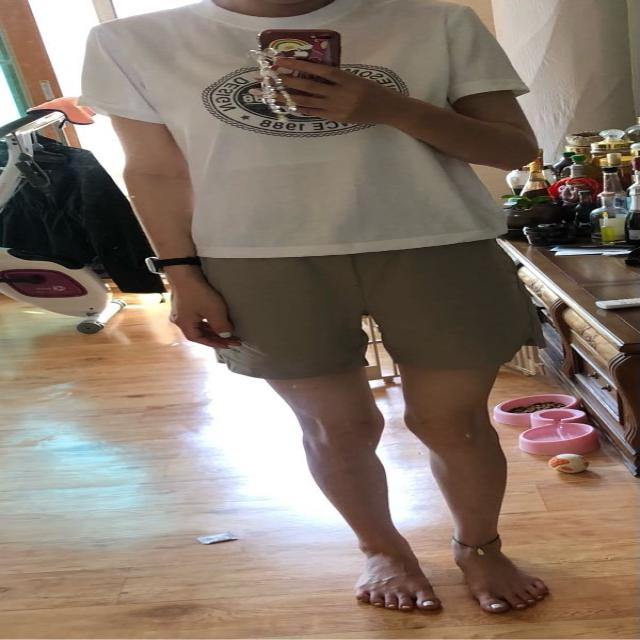shortpants: (195, 242, 546, 384)
shortsleeve: (75, 4, 528, 261)
